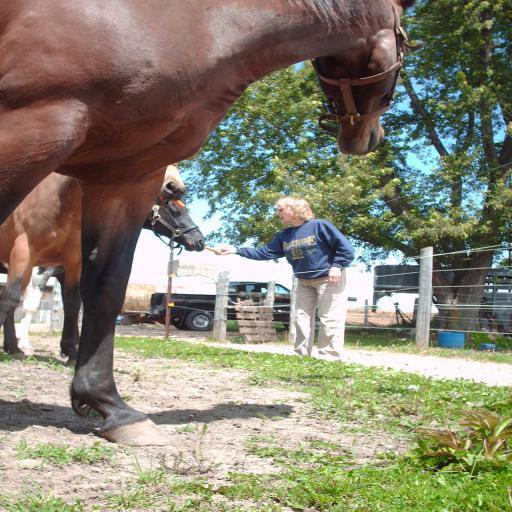horse: (0, 0, 418, 447), (0, 162, 187, 368), (0, 197, 207, 356)
